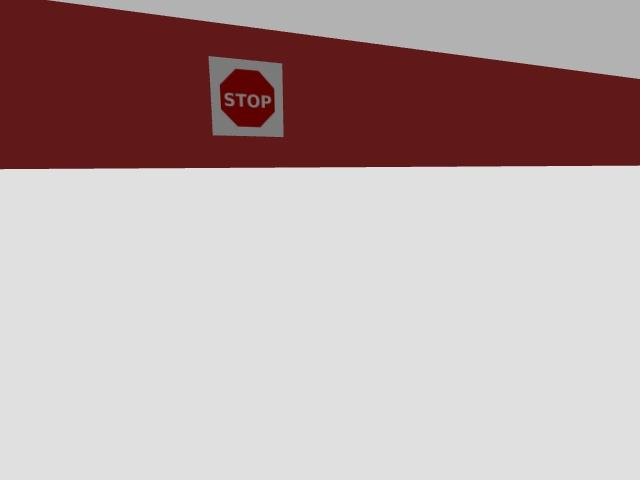stop: (210, 56, 282, 137)
